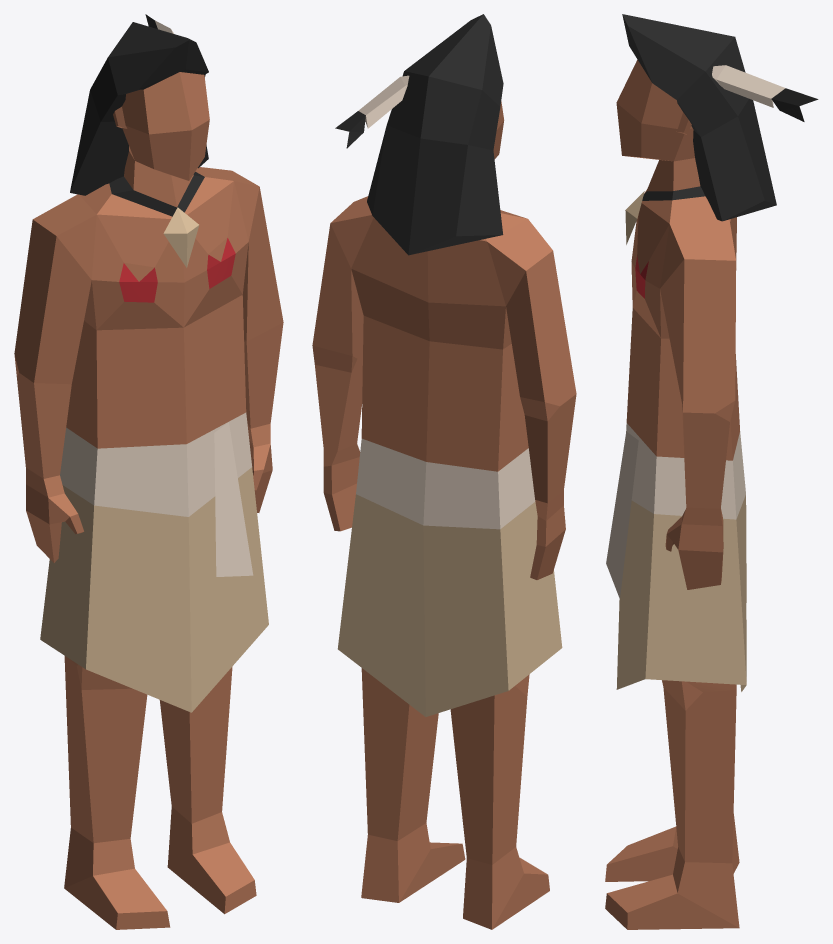
The model's file is people_man-native-warrior.fbx.
3 renders of one model, left to right at view 1: azimuth 30°, elevation 25°; view 2: azimuth 150°, elevation 25°; view 3: azimuth 270°, elevation 25°, orthographic. The views are drawn at different scales.
Visible parts, largest first — view 1: people_man_native_warrior; view 2: people_man_native_warrior; view 3: people_man_native_warrior.
Part boxes in pixels (box(x1,y1,x2,y2)): people_man_native_warrior: box(14, 14, 283, 929); people_man_native_warrior: box(312, 14, 576, 929); people_man_native_warrior: box(605, 14, 818, 929).
Size of the model in its own units: 59.71 by 200 by 43.94.
